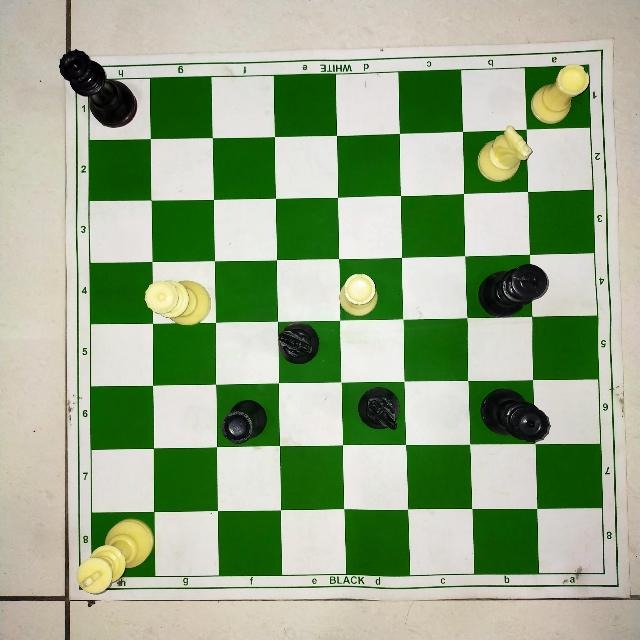black-king: (475, 262, 551, 318)
black-knight: (356, 385, 402, 436), (277, 321, 323, 369)
black-queen: (56, 48, 140, 129), (478, 386, 551, 444)
black-rook: (220, 397, 269, 447)
white-king: (76, 515, 155, 597)
white-knight: (471, 125, 533, 183)
white-queen: (143, 276, 213, 332)
white-rook: (529, 63, 591, 127), (338, 269, 382, 315)
